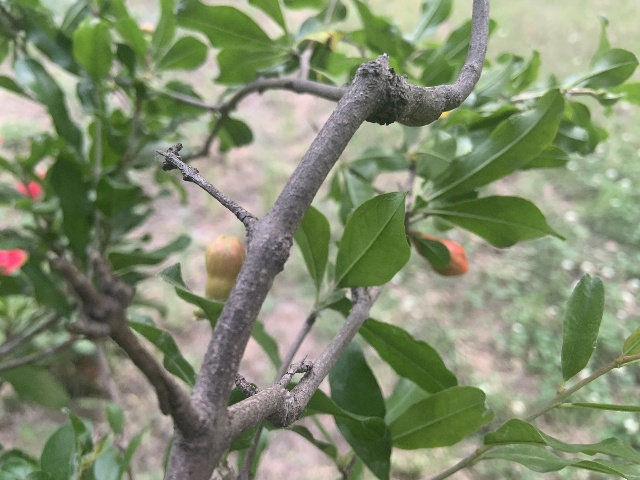bud: (202, 234, 246, 302), (415, 234, 468, 276)
